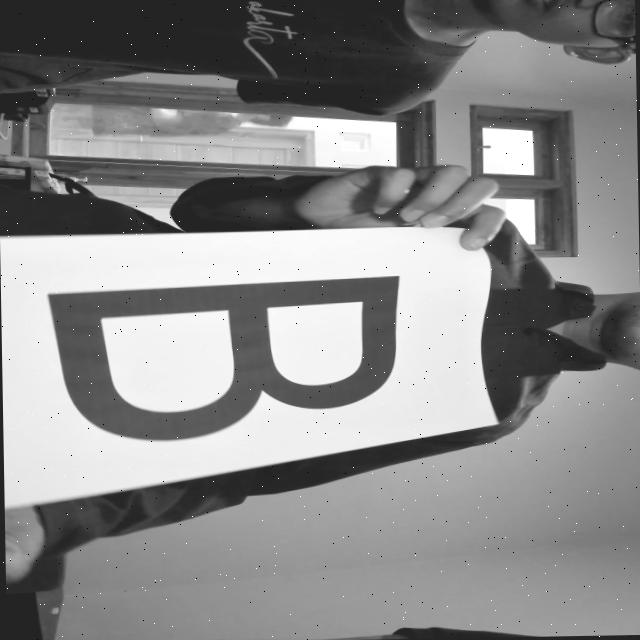b: (33, 252, 433, 450)
